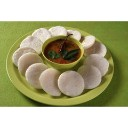idly: (24, 62, 48, 89), (59, 69, 83, 95), (78, 65, 102, 89), (41, 67, 60, 97), (17, 54, 43, 75), (84, 53, 109, 73), (14, 48, 37, 64), (22, 35, 41, 54), (51, 24, 69, 36), (32, 29, 50, 40), (83, 33, 95, 47)
